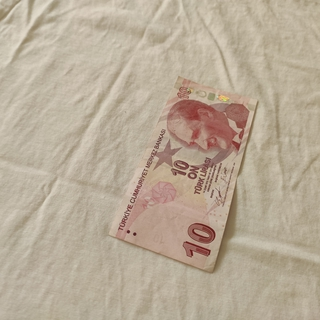10TLFront: (107, 74, 259, 273)
